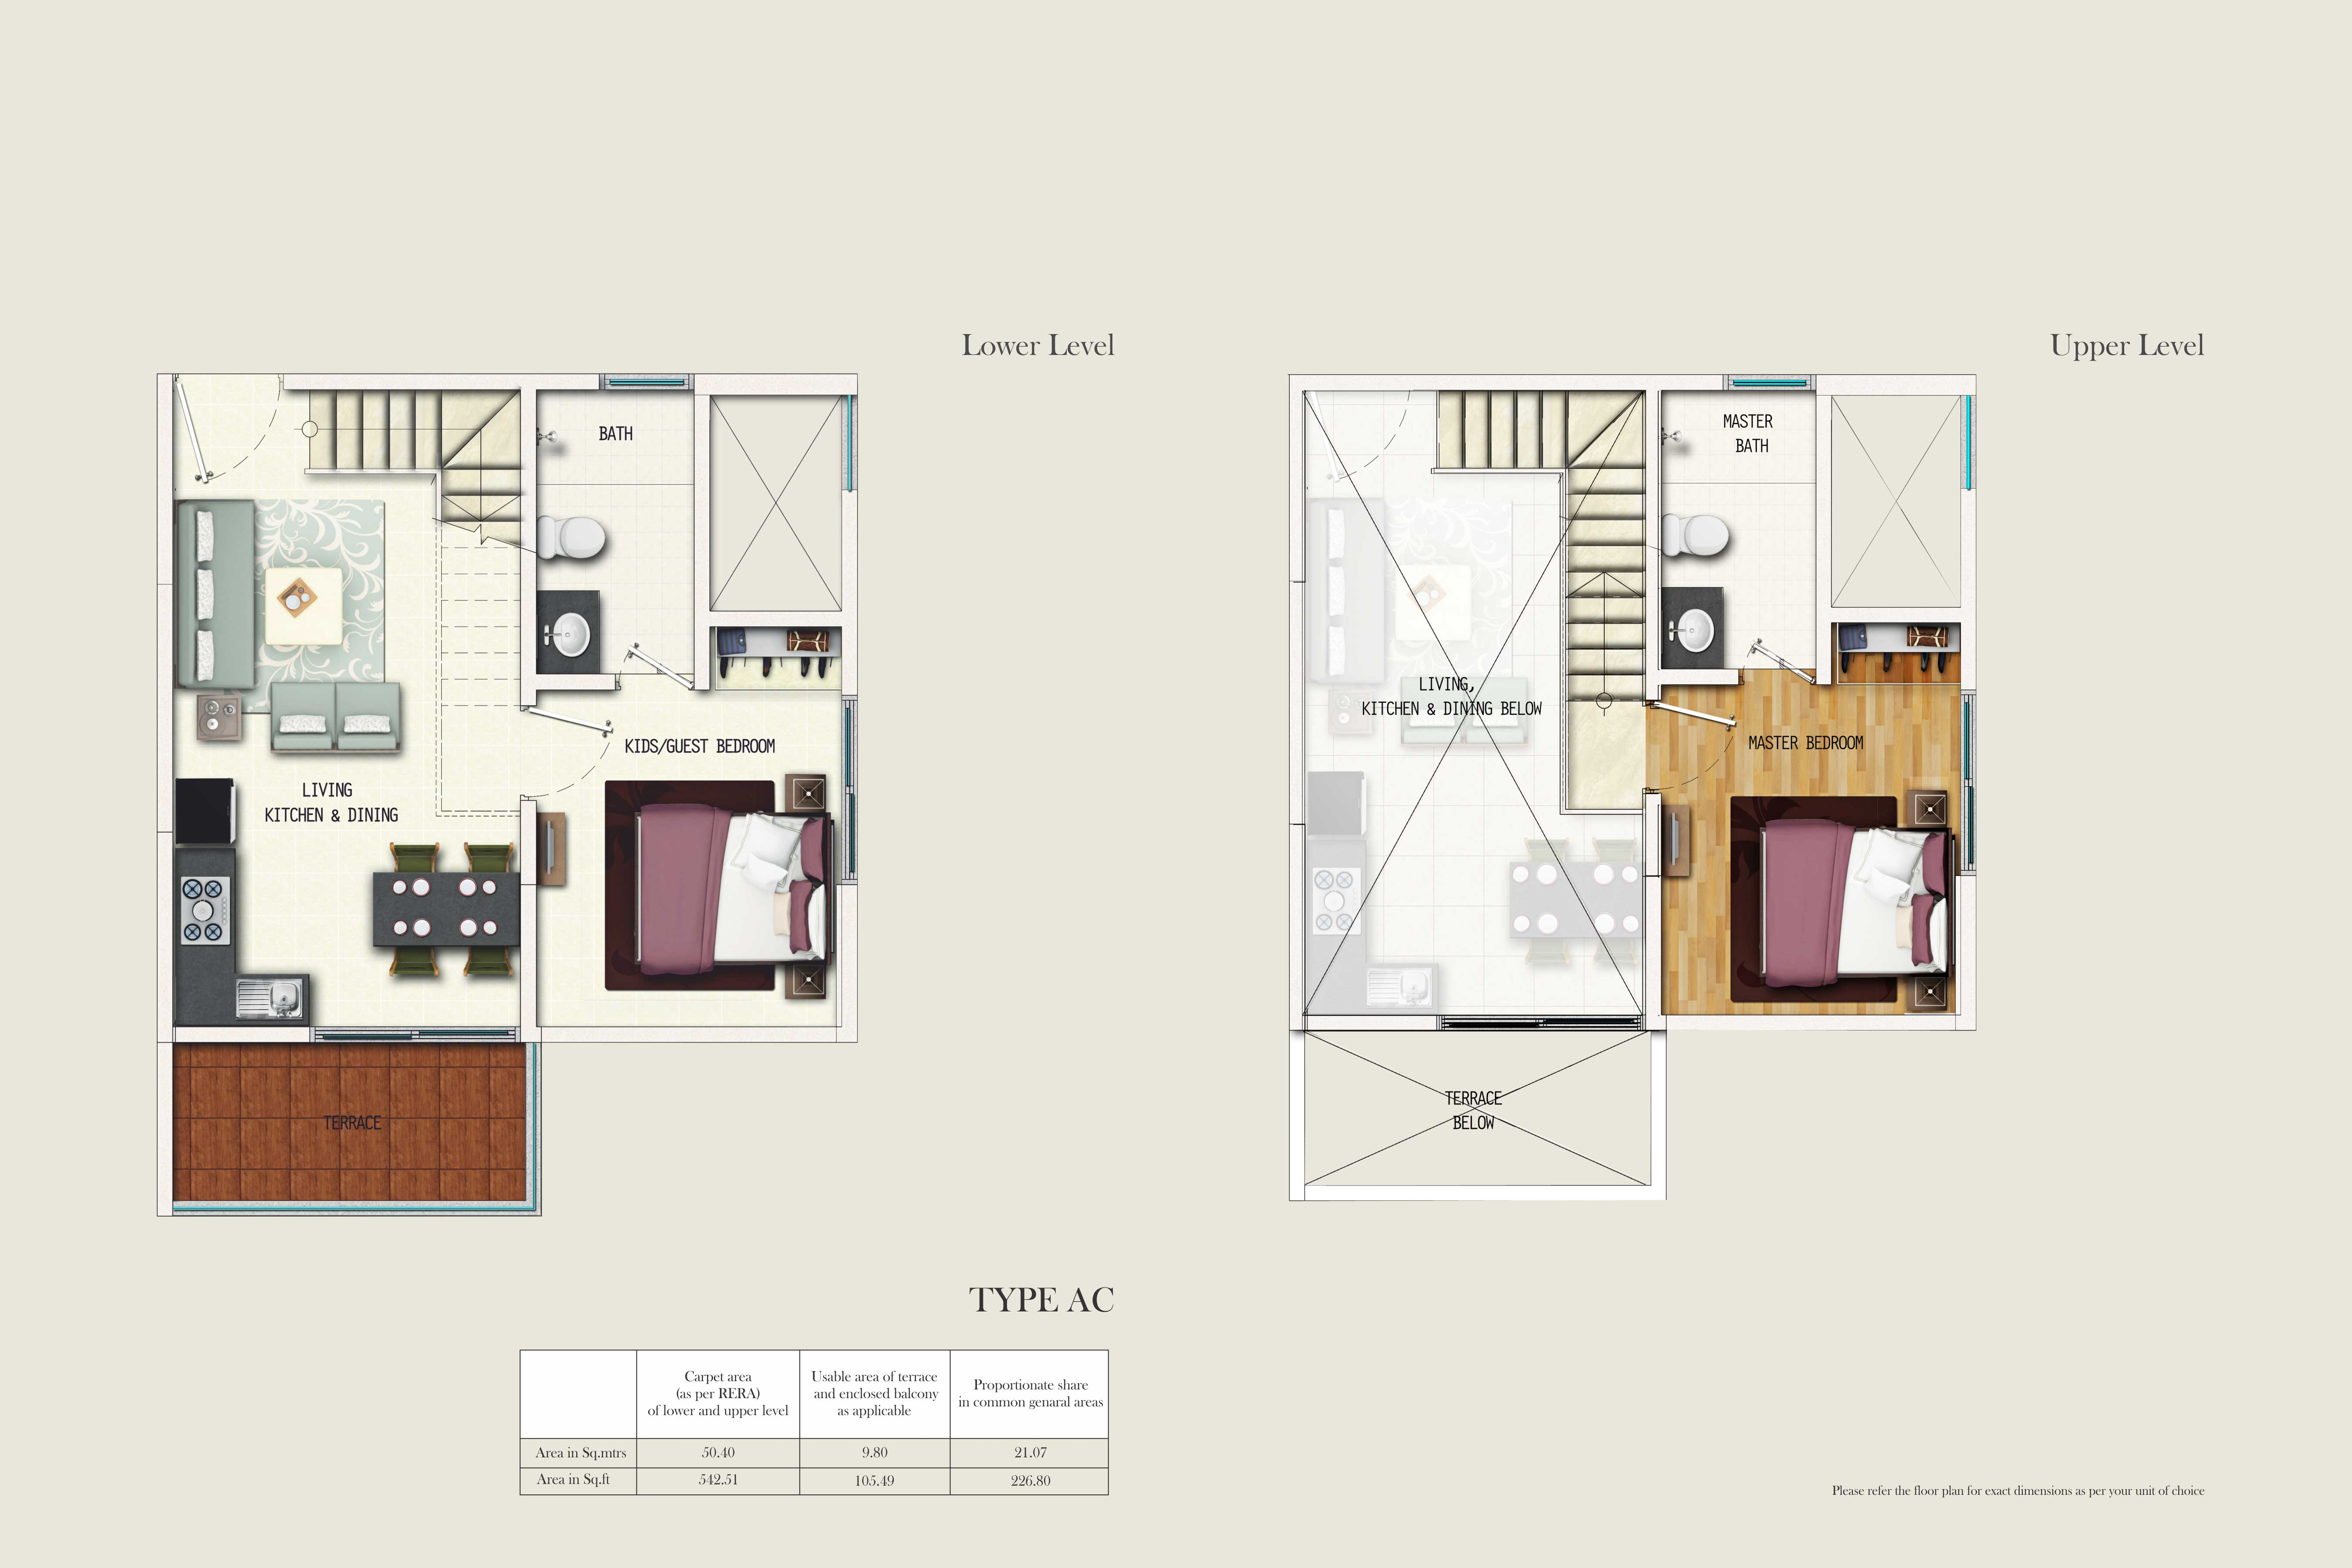window: (1433, 1010, 1648, 1038), (306, 1025, 523, 1045), (1958, 688, 1979, 879), (840, 693, 859, 887), (597, 371, 697, 394), (1720, 373, 1818, 394)
